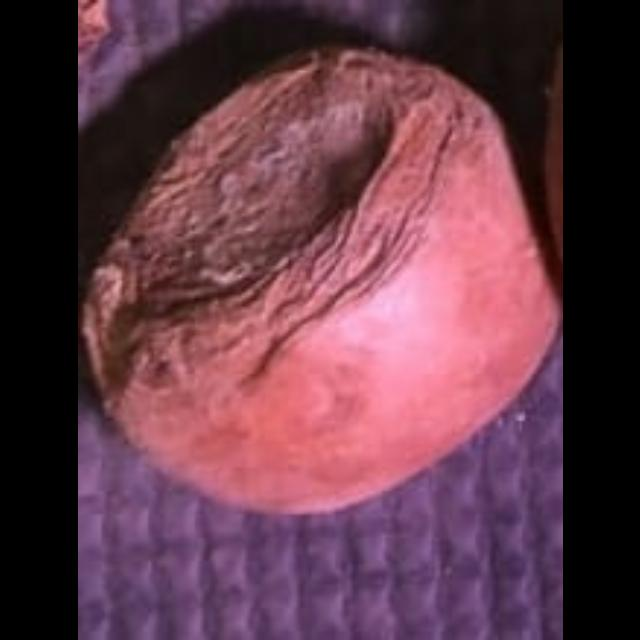Damaged potato: (78, 32, 556, 530)
